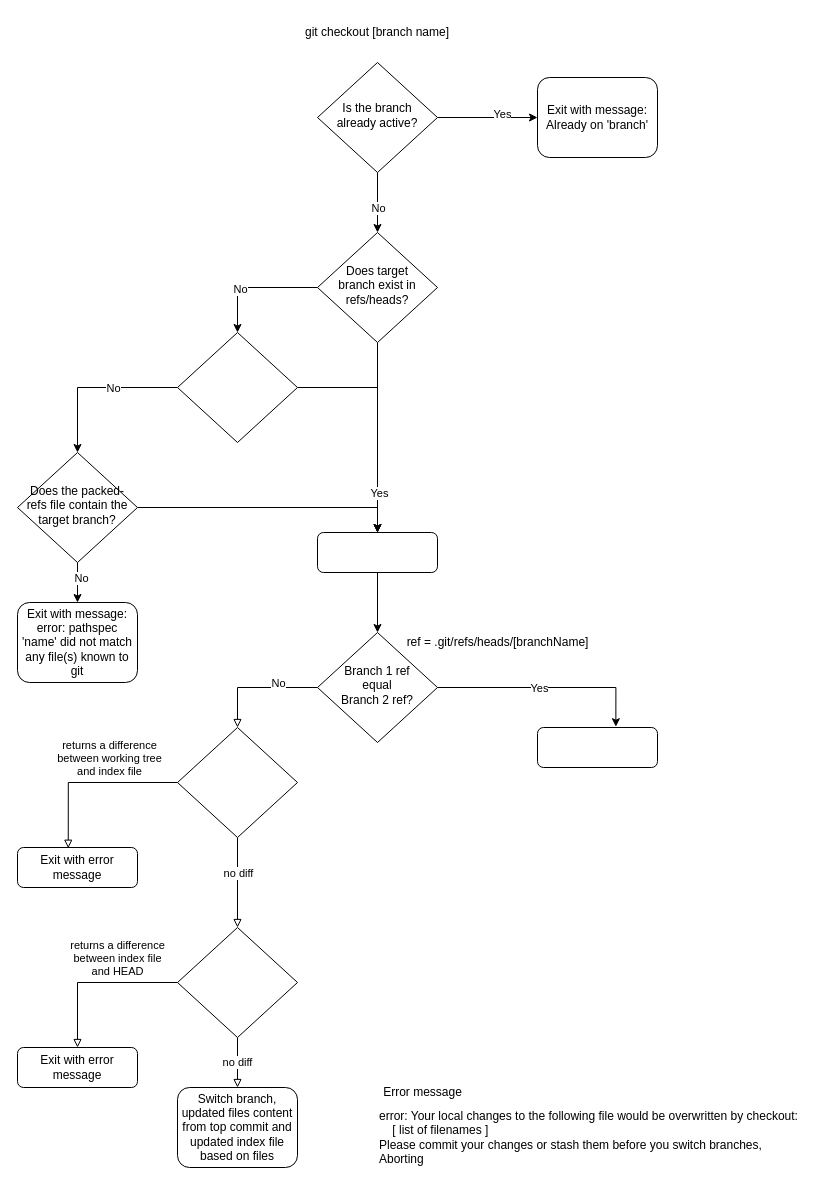
The diagram is 825 pixels wide and 1185 high, and some of its shapes have lost their labels. Each missing label, with the box of its shape:
Does FETCH_HEAD exist and contain the target branch?: (176, 332, 298, 442)
git diff: (176, 726, 298, 838)
git diff --staged: (176, 926, 298, 1038)
Set target commit hash from the file: (316, 532, 438, 572)
Switch branch and leave everything as is: (536, 726, 658, 768)
